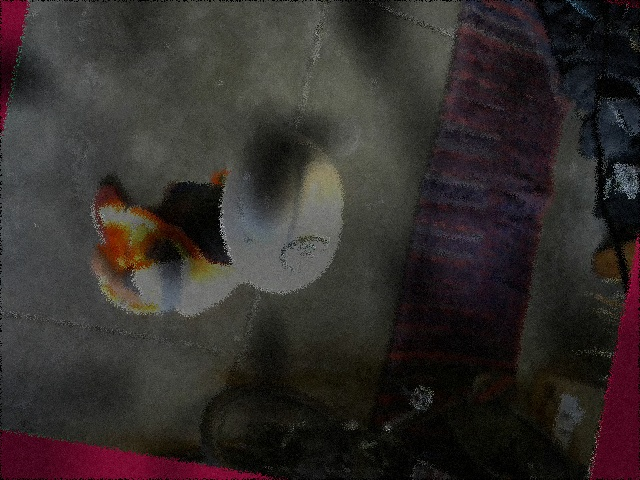three: (280, 232, 327, 274)
